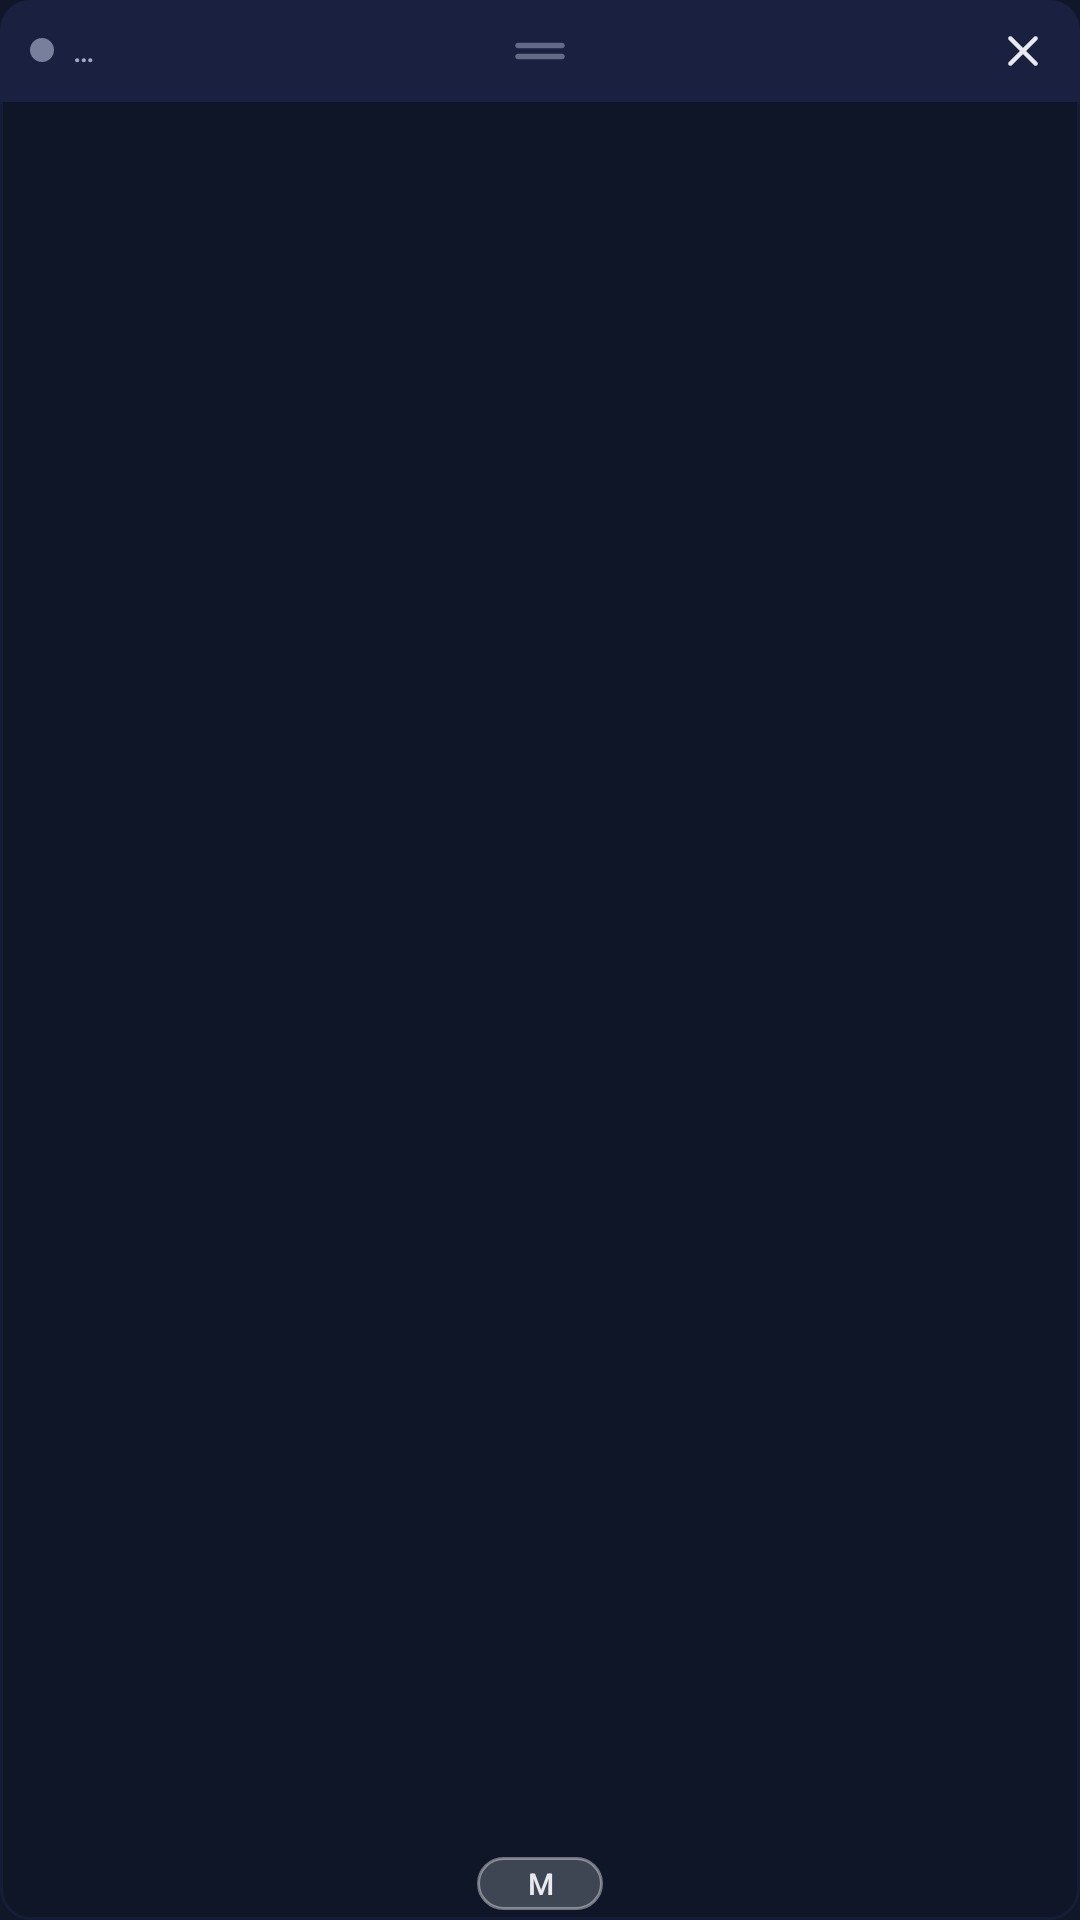

Icon click points for this 1080 x 1920 phone screenshot, format [x,y]:
Fermer le chat: [1023,51]
Glisser pour déplacer: [540,51]
